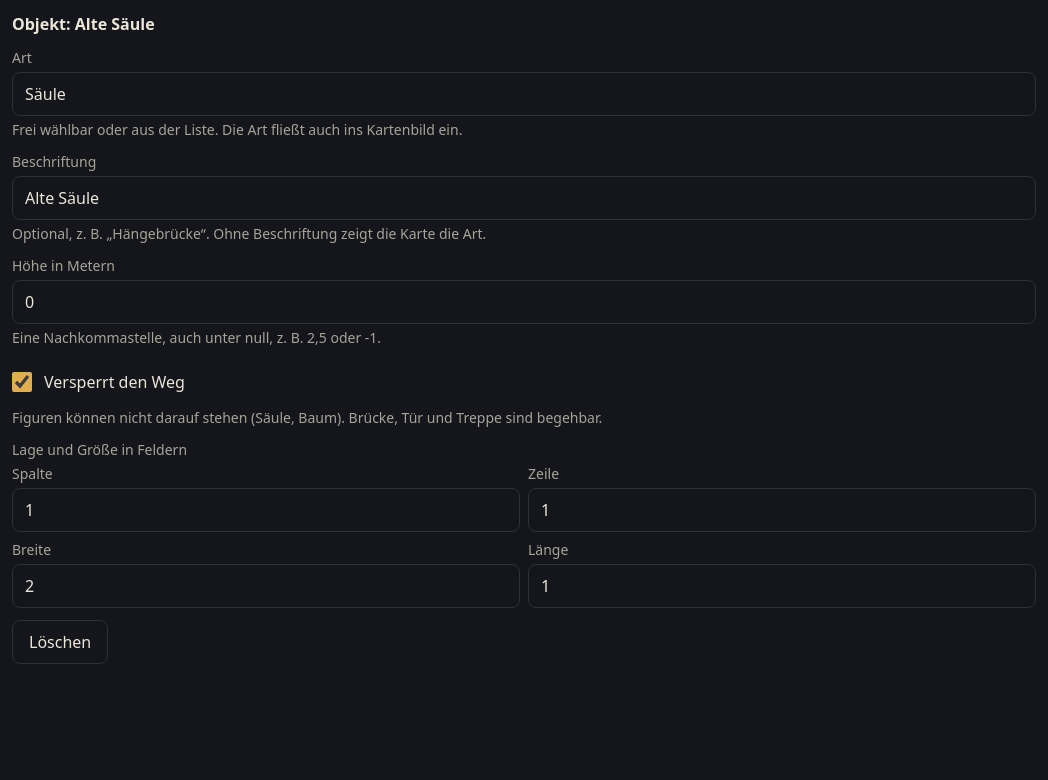
Test case: property panel › edits a feature’s texts as one undo step per field
Step 1. Replace the text in the field labelled "Beschriftung" with "Säule am Tor " → (524, 198), box [12,176,1036,220]
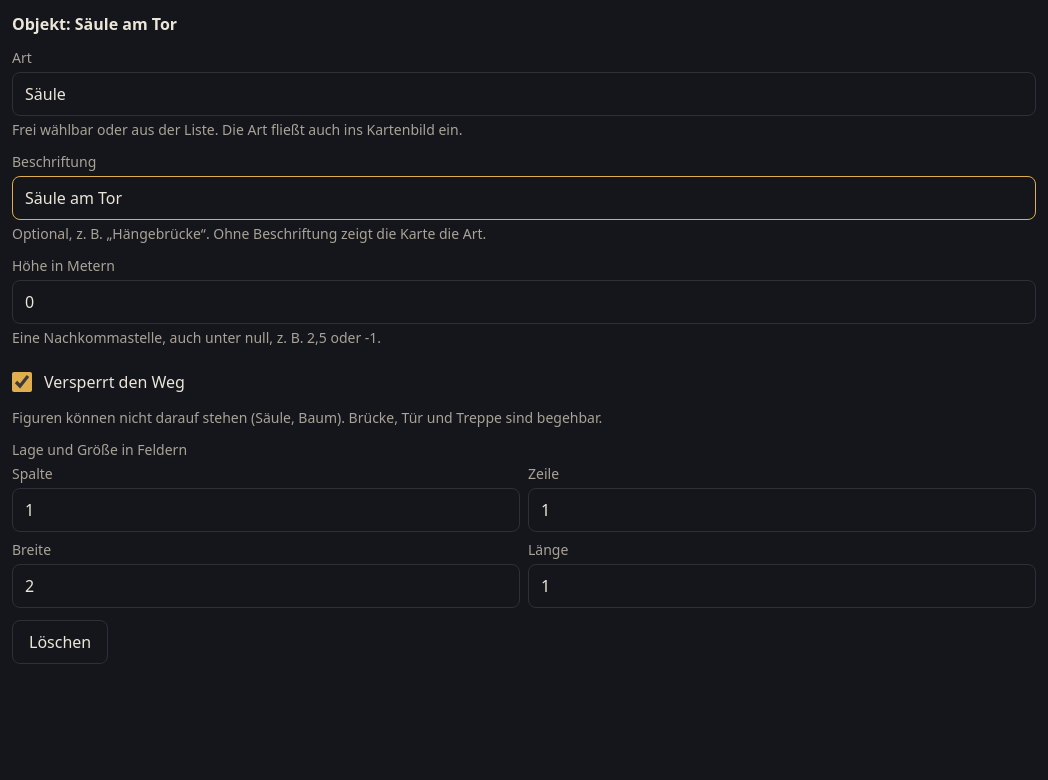
Step 2. Press Tab
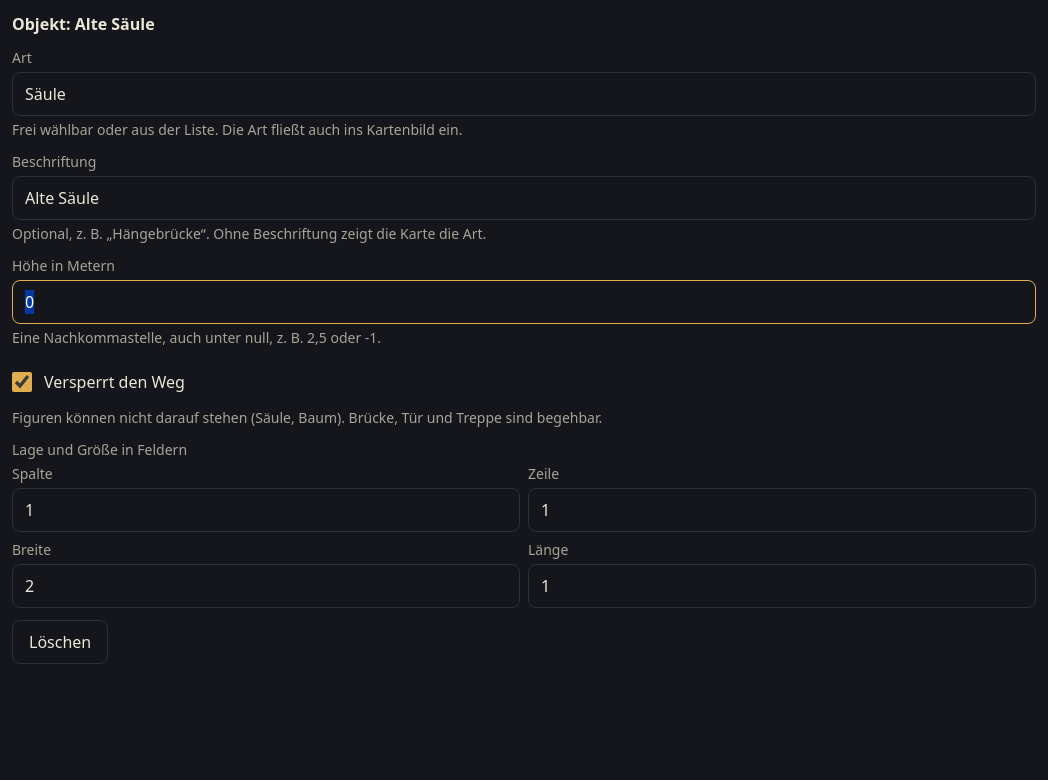
Expected: the field labelled "Beschriftung" holds "Alte Säule", [12,176,1036,220]
